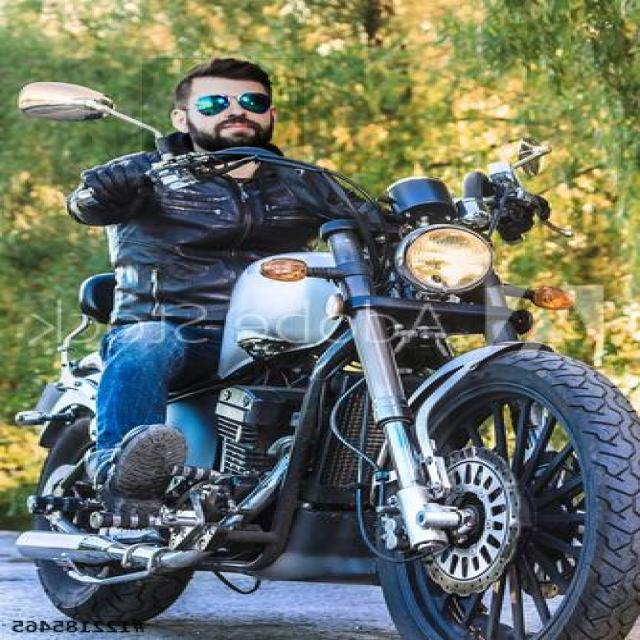No_Helmet: (142, 58, 304, 163)
